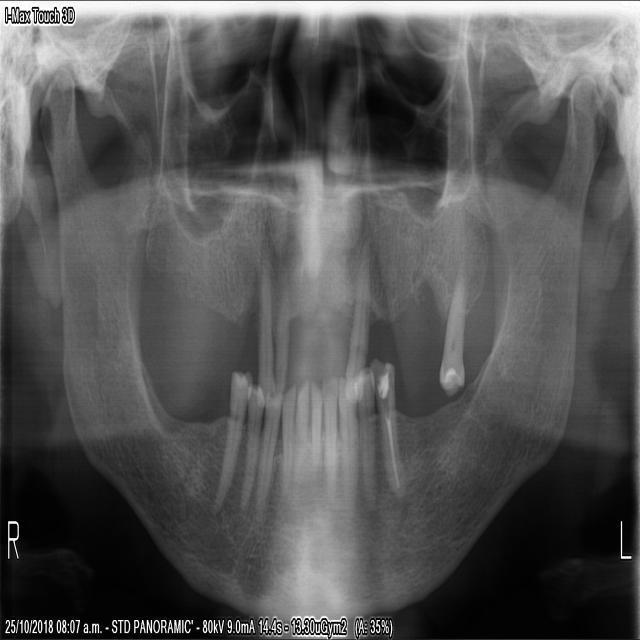LCD: (337, 368, 357, 490)
LCU: (342, 234, 375, 404)
LID: (320, 368, 339, 480), (308, 376, 322, 479)
LMU: (435, 273, 467, 401)
LPMD: (367, 352, 406, 503), (352, 362, 377, 506)
RCD: (255, 387, 280, 512)
RCU: (274, 258, 291, 392)
RID: (292, 379, 310, 475), (280, 385, 295, 482)
RPMD: (208, 364, 254, 513), (238, 383, 265, 514)
RPMU: (254, 259, 279, 409)
